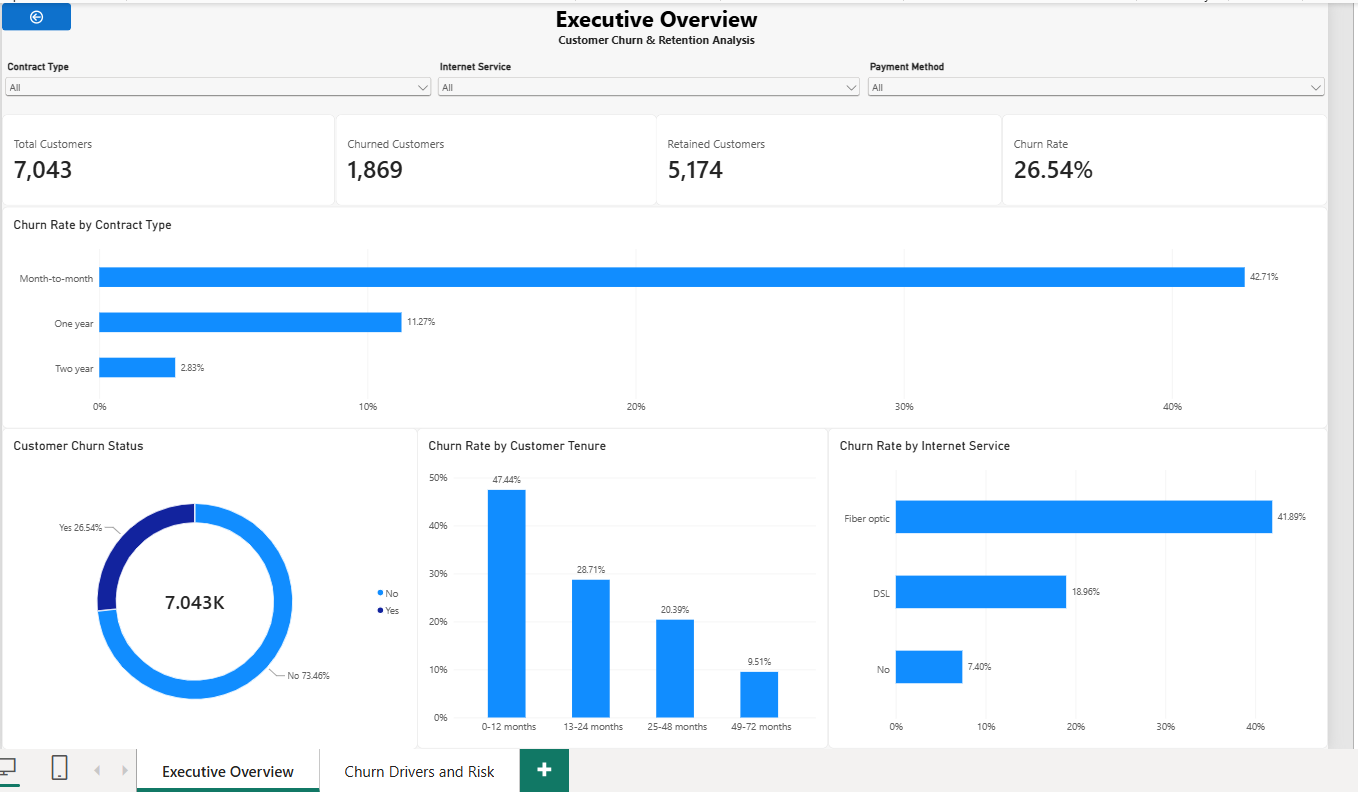

What the dashboard file says about the page in this screenshot:
{"tool":"powerbi","page":{"name":"Executive Overview","canvas":[1920,1080],"ordinal":0},"visuals":[{"type":"cardVisual","box":[150,823,300,257],"z":5},{"type":"cardVisual","fields":{"Data":["Customer Churn.Total Customers Display"]},"box":[0,161.5,482.7,132.7],"z":6},{"type":"cardVisual","fields":{"Data":["Customer Churn.Churned Customers Display"]},"box":[482.7,161.5,465.4,132.7],"z":7},{"type":"cardVisual","fields":{"Data":["Customer Churn.Retained Customers Display"]},"box":[946.2,161.5,501.9,132.7],"z":8},{"type":"cardVisual","fields":{"Data":["Customer Churn.Churn Rate Display"]},"box":[1448.1,161.5,471.2,132.7],"z":9},{"type":"clusteredBarChart","title":"Churn Rate by Contract Type","fields":{"Category":["Customer Churn.Contract"],"Y":["Customer Churn.Churn Rate"]},"box":[0,294.2,1919.2,321.2],"z":10},{"type":"donutChart","title":"Customer Churn Status","fields":{"Category":["Customer Churn.Churn"],"Y":["Customer Churn.Total Customers"]},"box":[0,614.8,601.6,465.6],"z":11},{"type":"clusteredColumnChart","title":"Churn Rate by Customer Tenure","fields":{"Category":["Customer Churn.Tenure Group"],"Y":["Customer Churn.Churn Rate"]},"box":[601.6,614.8,595.1,463.9],"z":12},{"type":"clusteredBarChart","title":"Churn Rate by Internet Service","fields":{"Category":["Customer Churn.InternetService"],"Y":["Customer Churn.Churn Rate"]},"box":[1196.7,614.8,723,463.9],"z":13},{"type":"actionButton","box":[0,0,100,40],"z":15},{"type":"textbox","box":[450.1,0,994.1,83],"z":16},{"type":"slicer","fields":{"Values":["Customer Churn.Contract"]},"box":[0,82.7,626.9,78.8],"z":17},{"type":"slicer","fields":{"Values":["Customer Churn.InternetService"]},"box":[626.9,82.7,621.2,78.8],"z":18},{"type":"slicer","fields":{"Values":["Customer Churn.PaymentMethod"]},"box":[1248.1,82.7,671.2,78.8],"z":19}]}

Visuals, with their boxes on the page's 1920x1080 design canvas (x1, y1, x2, y2). These are canvas units, not pixel positions in the 1358x792 screenshot, which may show the page scaled, cropped or inside an application window:
cardVisual: box=[150, 823, 450, 1080]
cardVisual - Customer Churn.Total Customers Display: box=[0, 162, 483, 294]
cardVisual - Customer Churn.Churned Customers Display: box=[483, 162, 948, 294]
cardVisual - Customer Churn.Retained Customers Display: box=[946, 162, 1448, 294]
cardVisual - Customer Churn.Churn Rate Display: box=[1448, 162, 1919, 294]
"Churn Rate by Contract Type" clusteredBarChart: box=[0, 294, 1919, 615]
"Customer Churn Status" donutChart: box=[0, 615, 602, 1080]
"Churn Rate by Customer Tenure" clusteredColumnChart: box=[602, 615, 1197, 1079]
"Churn Rate by Internet Service" clusteredBarChart: box=[1197, 615, 1920, 1079]
actionButton: box=[0, 0, 100, 40]
textbox: box=[450, 0, 1444, 83]
slicer - Customer Churn.Contract: box=[0, 83, 627, 162]
slicer - Customer Churn.InternetService: box=[627, 83, 1248, 162]
slicer - Customer Churn.PaymentMethod: box=[1248, 83, 1919, 162]
